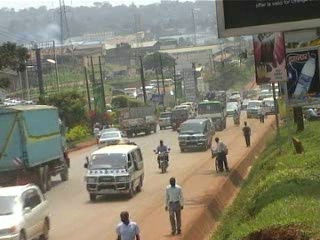Car: (0, 180, 55, 238), (97, 131, 132, 149), (96, 126, 129, 142), (159, 109, 172, 130), (224, 99, 239, 116), (240, 97, 252, 109)
Motorcycle: (152, 141, 171, 173), (230, 107, 241, 127)
